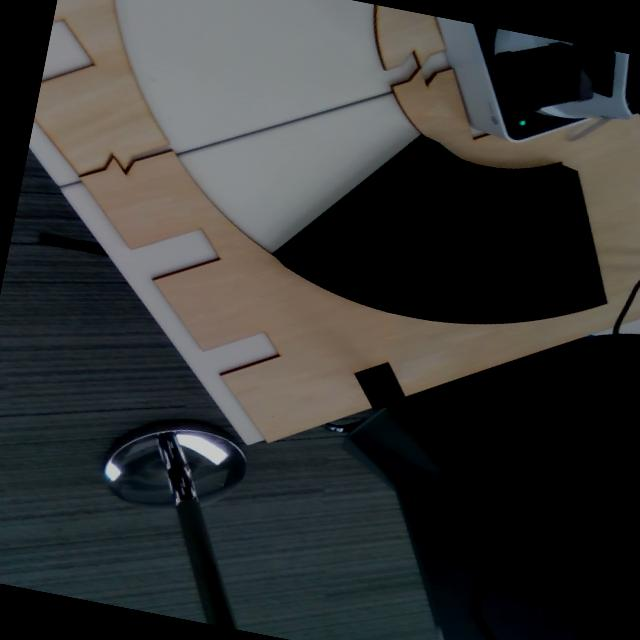box: (259, 97, 474, 325), (368, 144, 526, 341), (455, 150, 611, 329)
